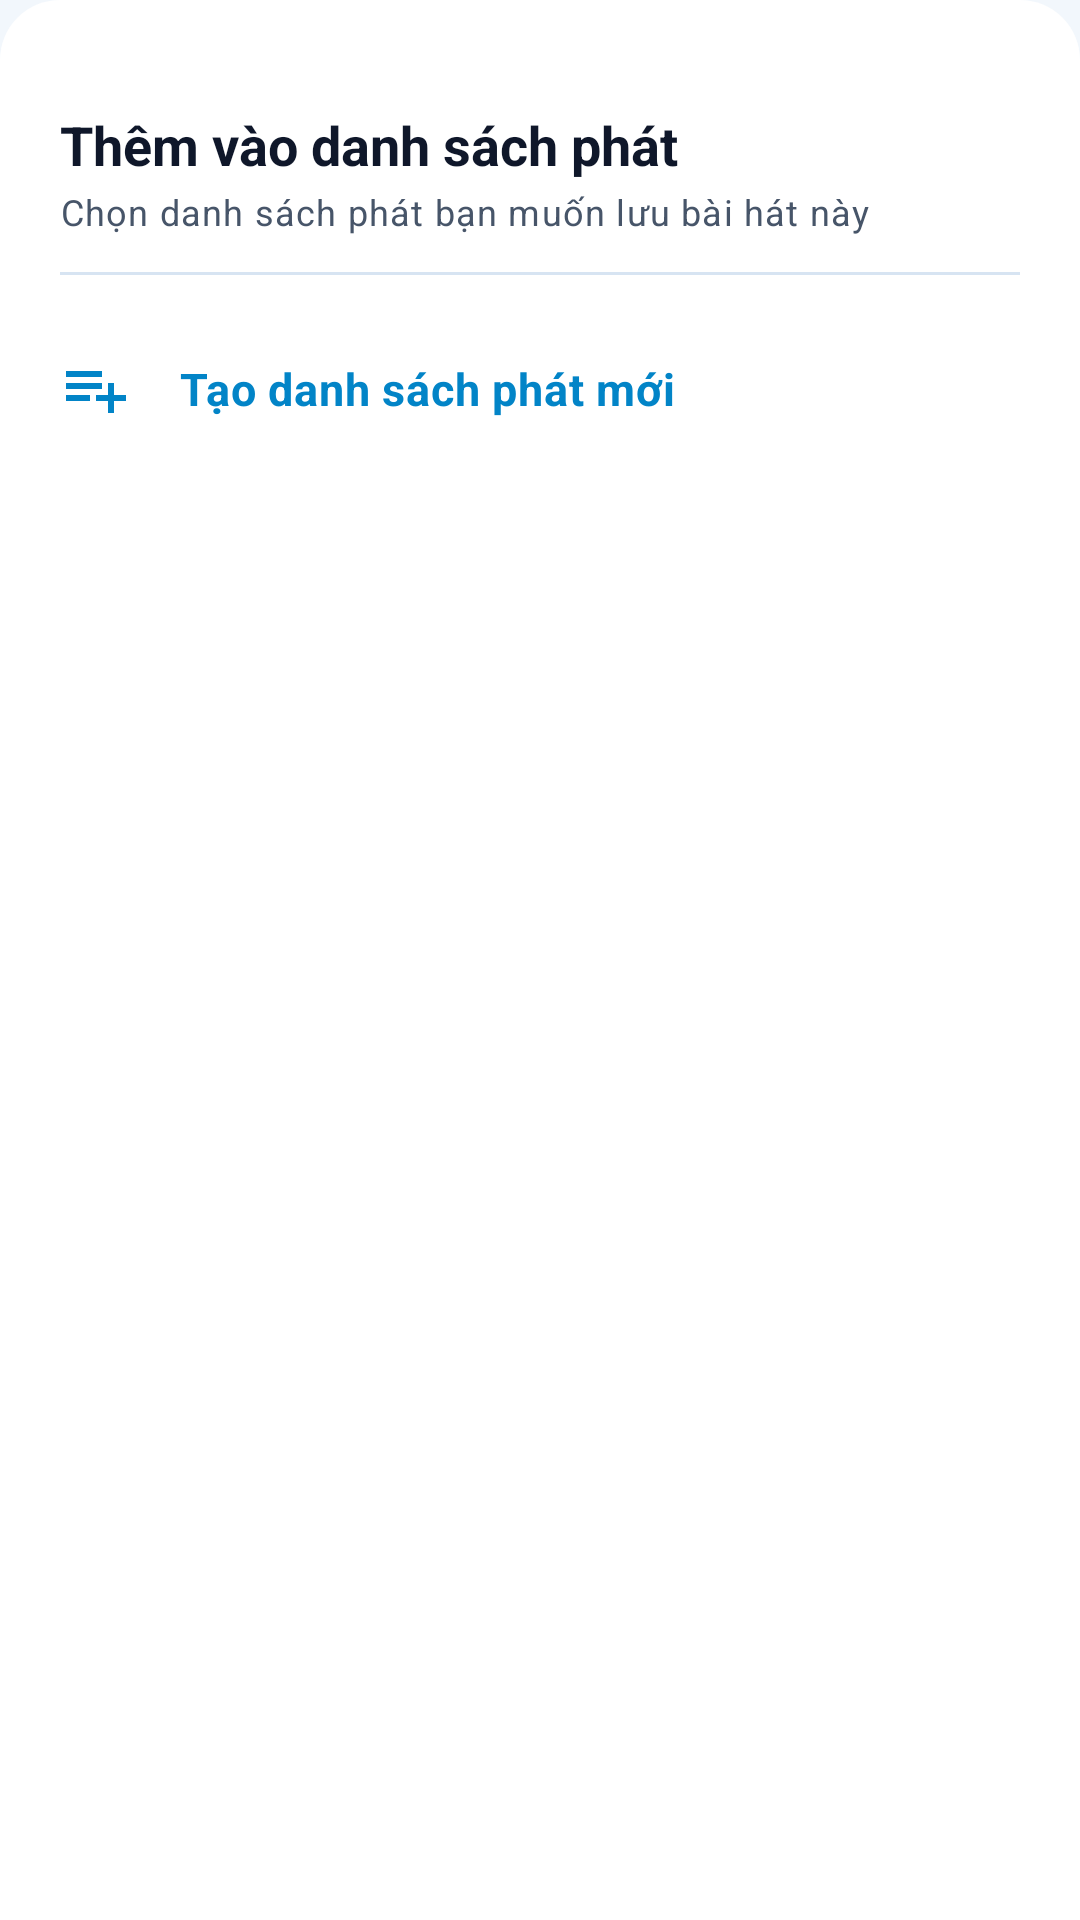

Named icons in this screenshot (1080×1920) and their centers, point (x, y):
playlist add: point (96, 392)
